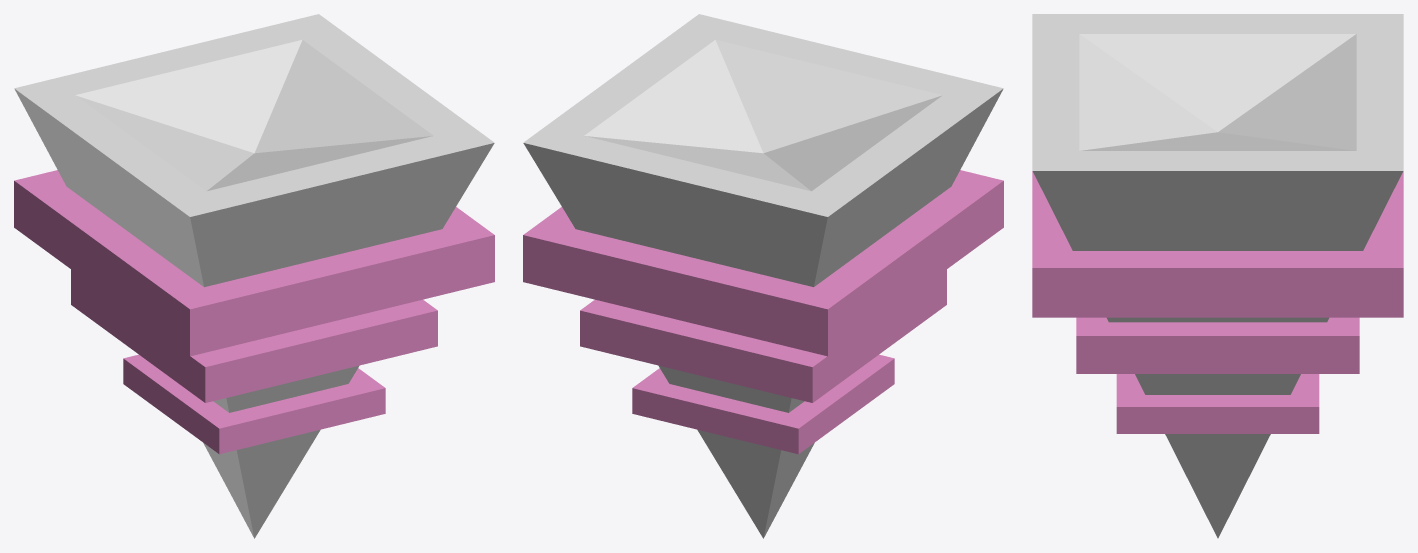
File: Wall lamp.fbx
The picture shows the model from 3 angles, left to right: view 1: azimuth 30°, elevation 25°; view 2: azimuth 150°, elevation 25°; view 3: azimuth 270°, elevation 25°; orthographic projection. The views are drawn at different scales.
Visible parts, largest first — view 1: Cube; view 2: Cube; view 3: Cube.
Part boxes in pixels (x1,y1,x2,y2): Cube: (14,14,494,538); Cube: (523,14,1003,538); Cube: (1032,14,1403,538).
Size of the model in its own units: 0.6779 by 0.9 by 0.6779.
